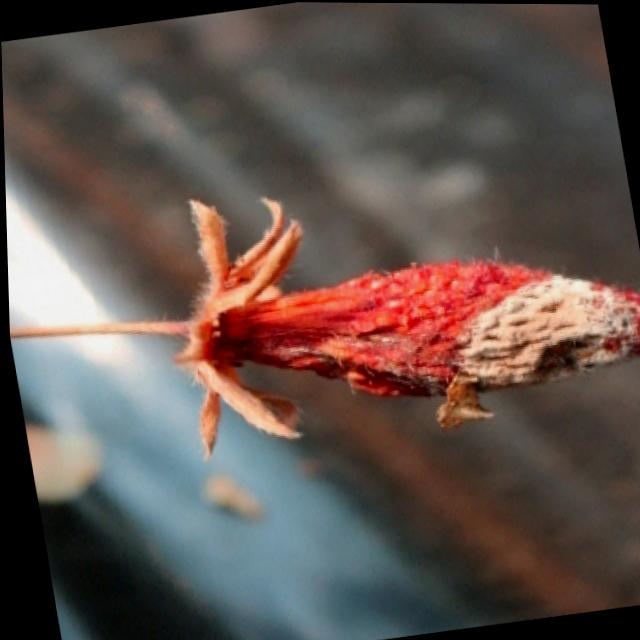Gray Mold: (161, 196, 640, 461)
